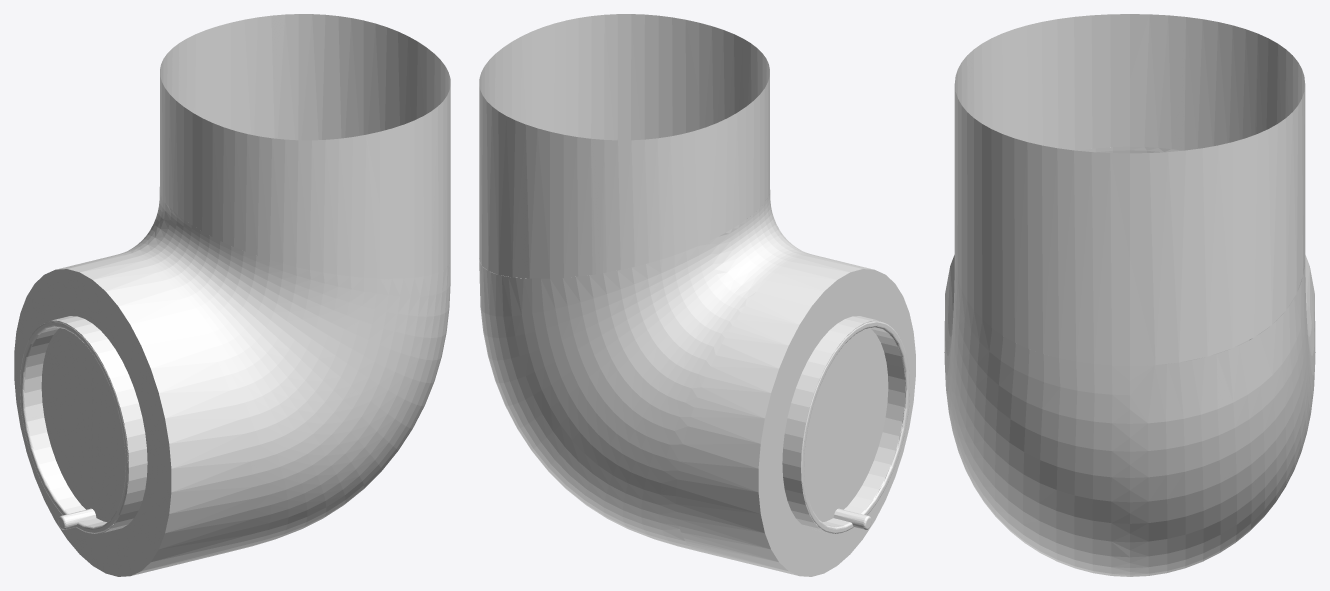
Rendered from joint5.dae.
3 views of the same model, side by side, from view 1: azimuth 30°, elevation 25°; view 2: azimuth 150°, elevation 25°; view 3: azimuth 270°, elevation 25° (orthographic). The views are drawn at different scales.
Visible parts, largest first — view 1: Link4; view 2: Link4; view 3: Link4.
Boxes of the visible parts, x1=… form: Link4: x1=14, y1=14, x2=450, y2=576; Link4: x1=479, y1=14, x2=915, y2=576; Link4: x1=944, y1=14, x2=1315, y2=576.
Size of the model in its own units: 0.0578 by 0.0432 by 0.066.
Materials: 1 (1 with a texture image).
